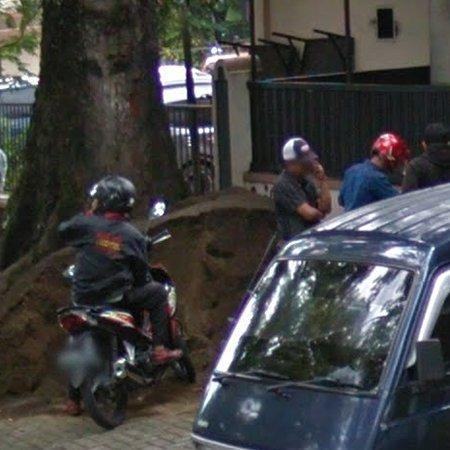motorcycles: (113, 358, 127, 379)
